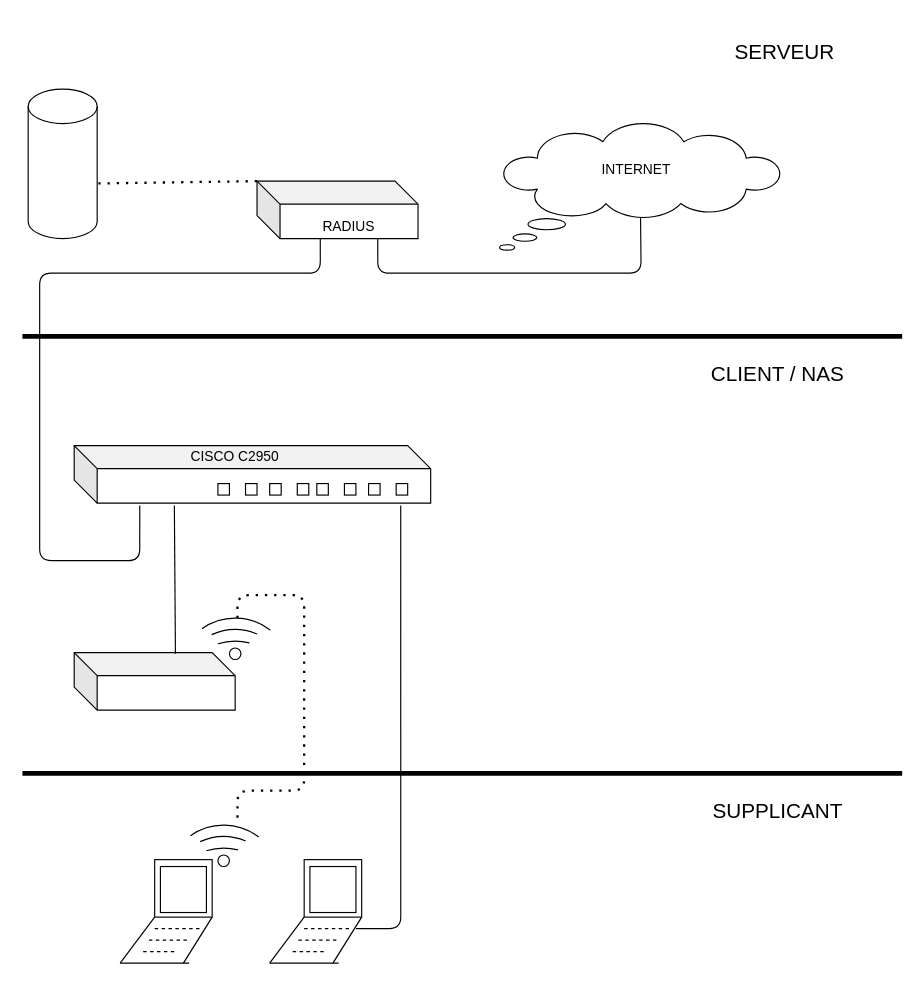
Some shapes in this 923 by 1004 pixel diagram are drawn without their labels. The centre of each missing label's shape, as x and y in pixels:
DB: point (62, 163)
Linksys WIFI: point (154, 680)
